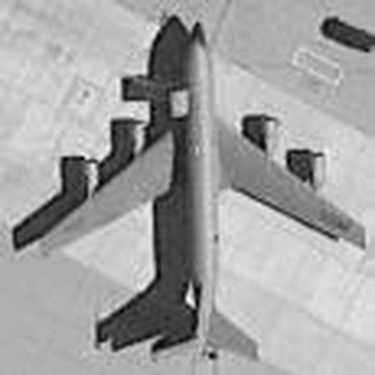airplane: (20, 12, 372, 373)
